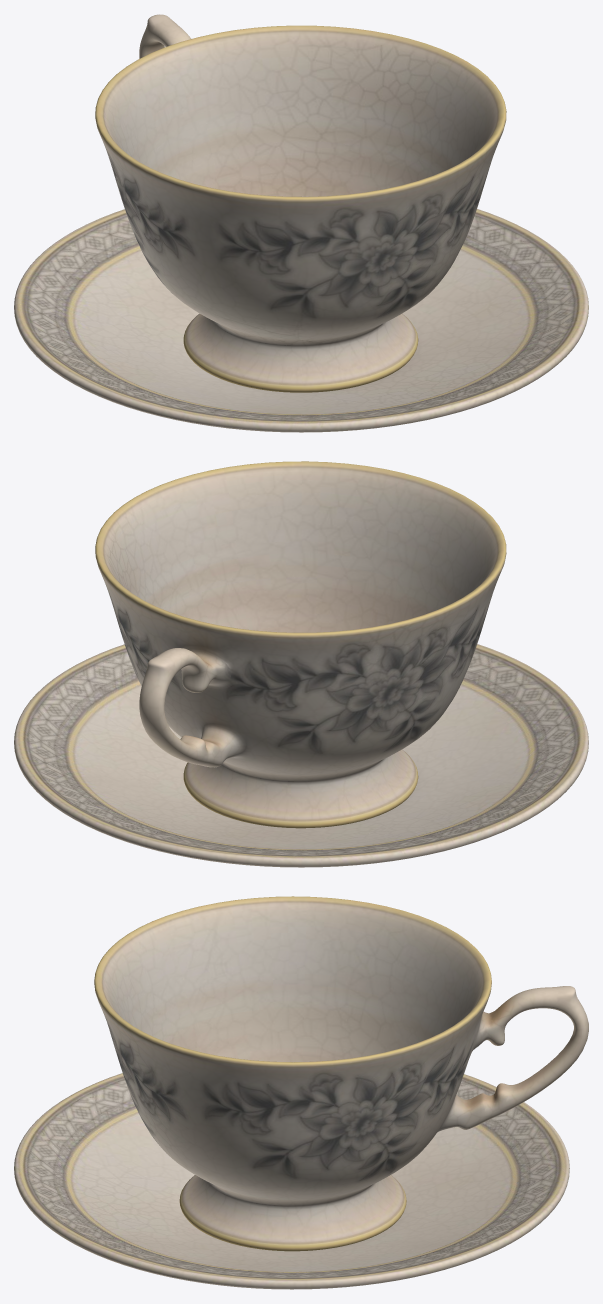
The model's file is DiffuseTransmissionTeacup.gltf.
3 renders of one model, top to bottom at view 1: azimuth 30°, elevation 25°; view 2: azimuth 150°, elevation 25°; view 3: azimuth 270°, elevation 25°, orthographic. The views are drawn at different scales.
Parts seen in each view (by area): view 1: tea_cup, tea_saucer; view 2: tea_cup, tea_saucer; view 3: tea_cup, tea_saucer.
Boxes of the visible parts, x1,y1,x2,y2 form: tea_cup: [95, 14, 506, 392]; tea_saucer: [14, 209, 588, 432]; tea_cup: [95, 461, 506, 828]; tea_saucer: [14, 644, 588, 867]; tea_cup: [94, 896, 588, 1251]; tea_saucer: [14, 1073, 569, 1289].
Size of the model in its own units: 0.1486 by 0.0704 by 0.1537.
2 materials, 2 textured.
